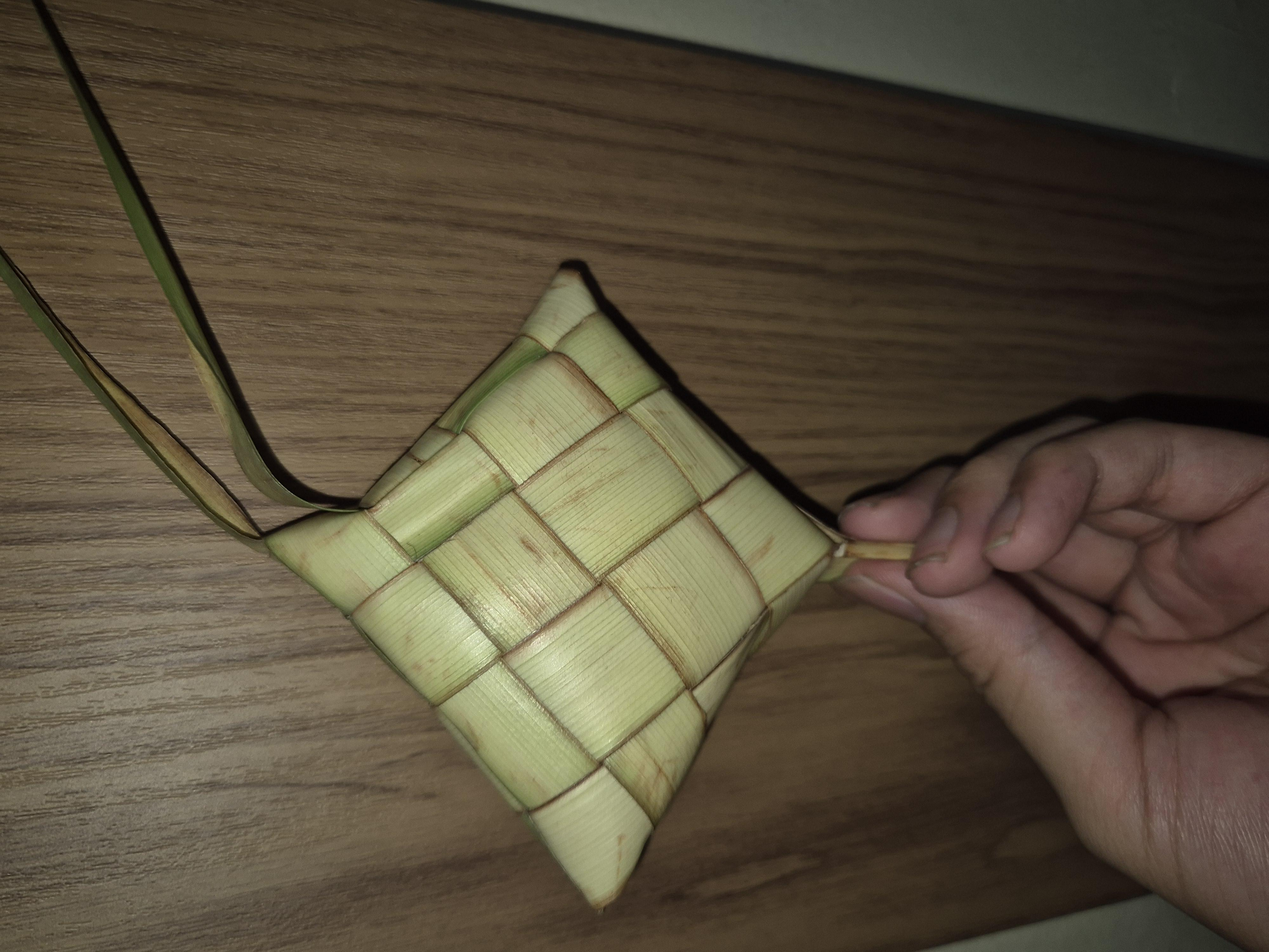Tipat Nasi: (61, 200, 907, 630)
